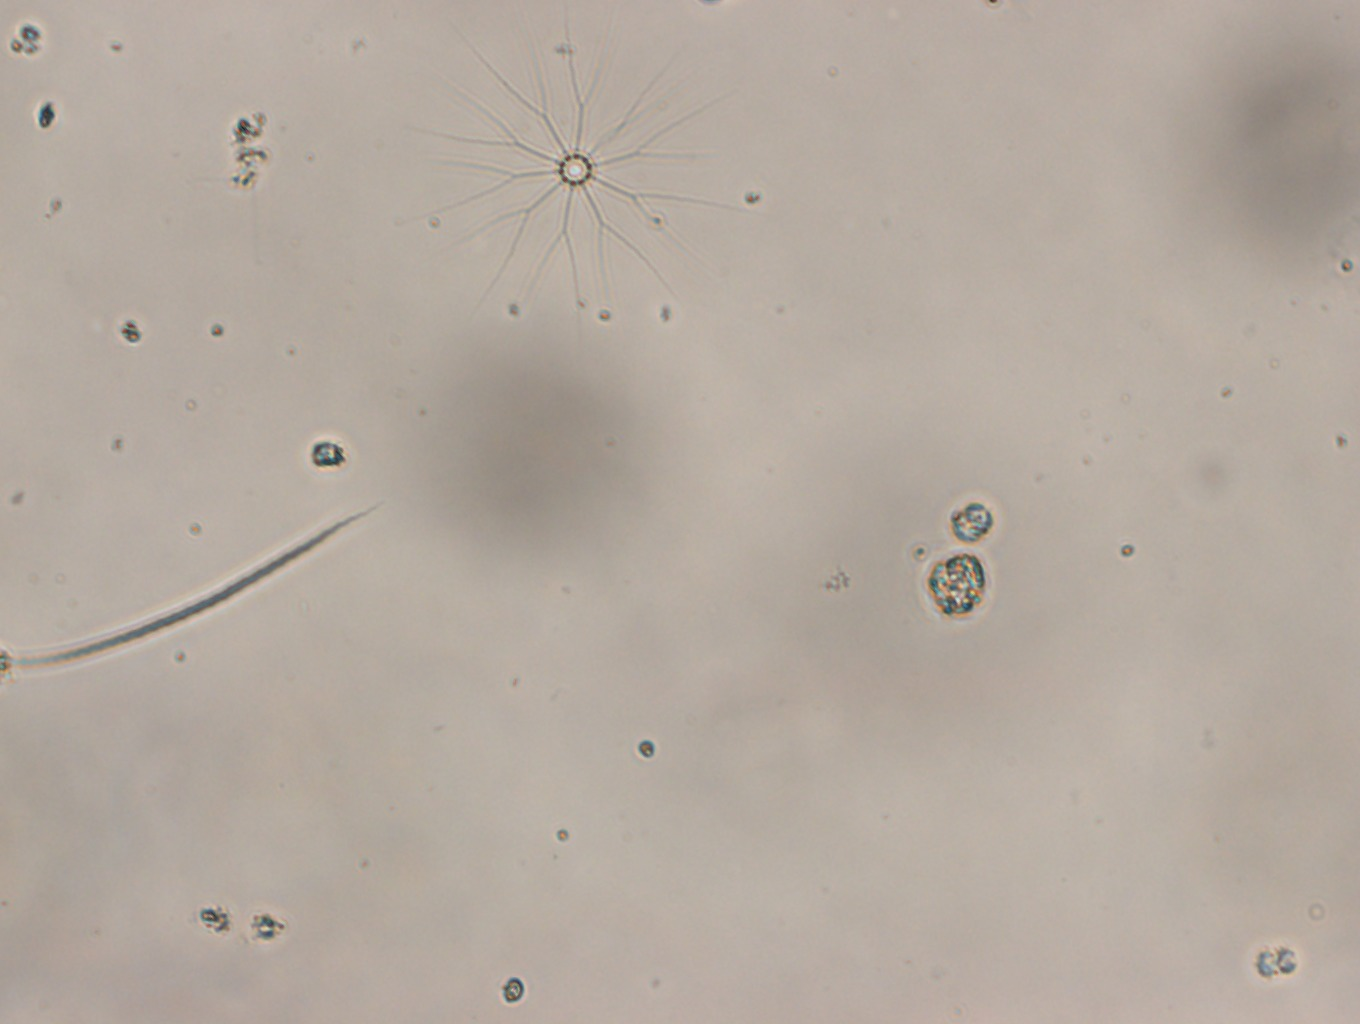bacteriastrum: (423, 17, 739, 308)
